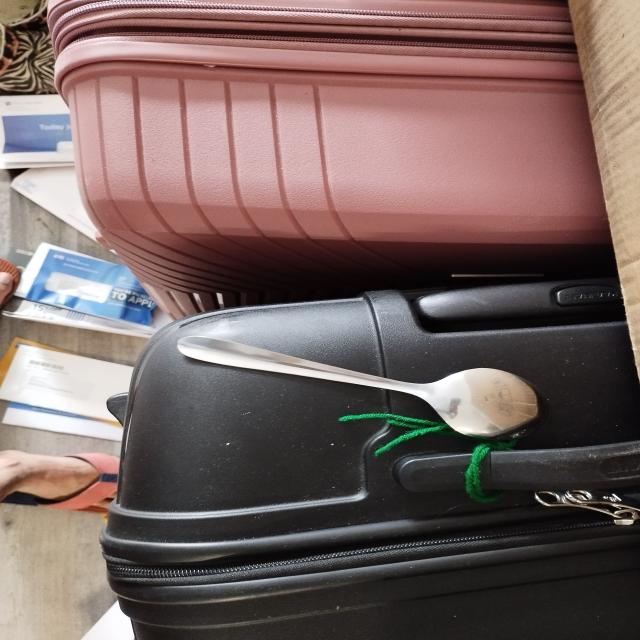Spoon: (169, 321, 560, 446)
